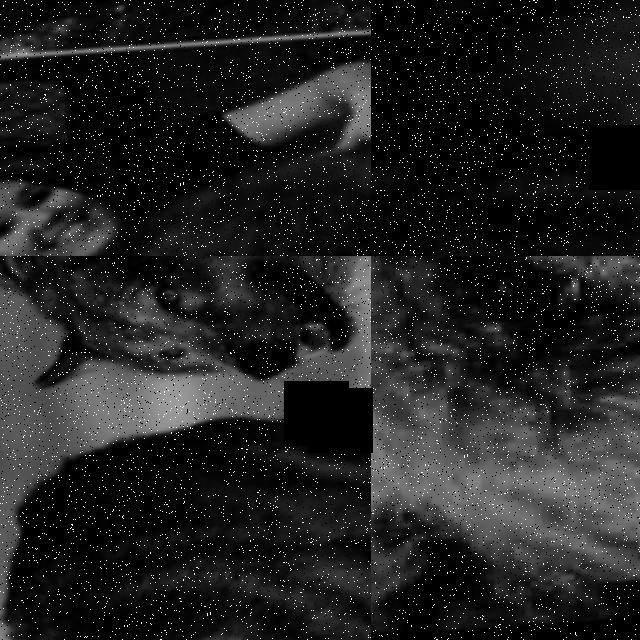dog: (371, 256, 640, 616), (371, 349, 640, 640)
wolf: (0, 383, 371, 640), (0, 50, 371, 256), (371, 0, 640, 256), (0, 256, 371, 432), (0, 0, 371, 67)
